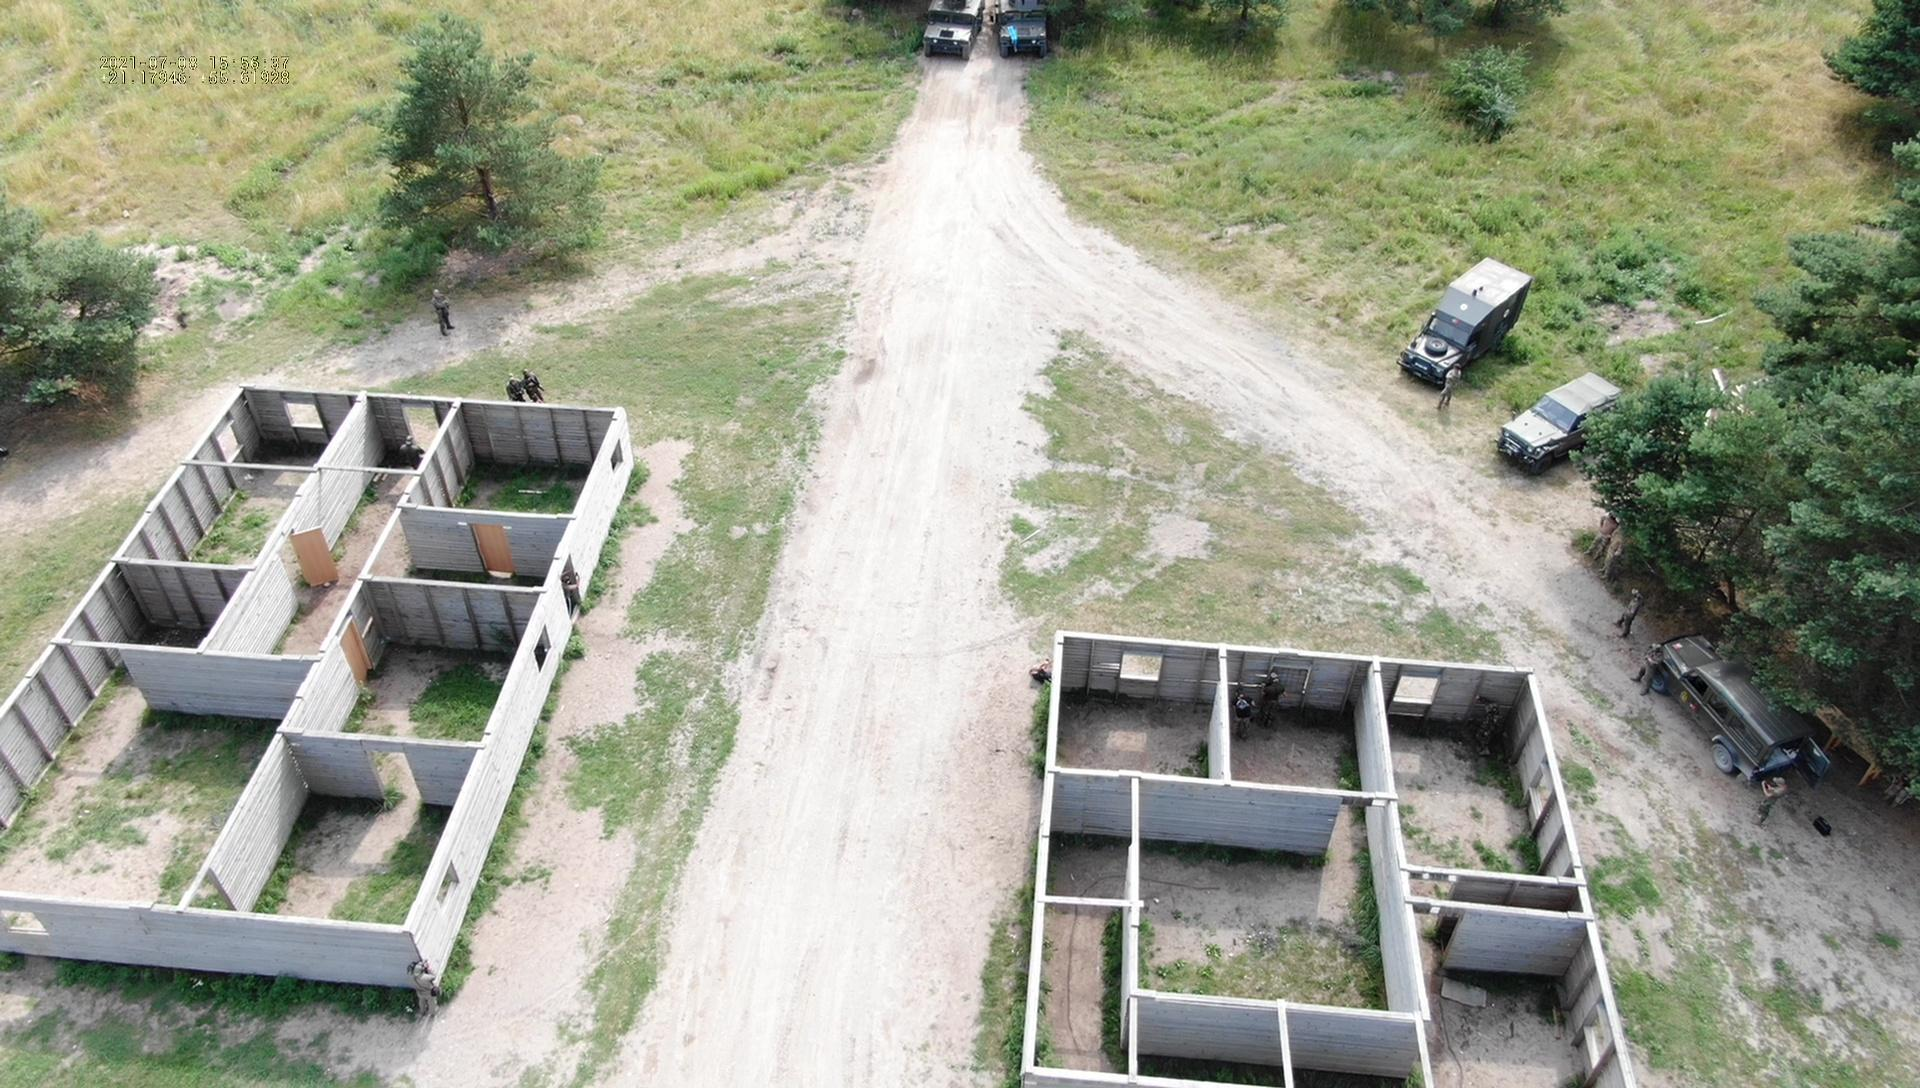Soldier: (1476, 706, 1518, 775), (1582, 505, 1619, 570), (1633, 638, 1672, 698), (425, 284, 463, 339), (1604, 525, 1629, 579), (521, 369, 549, 402), (501, 371, 526, 398)
